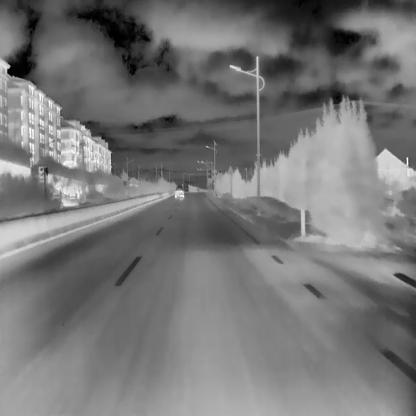car: (174, 184, 184, 198)
